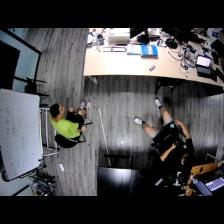normal: (132, 98, 194, 168), (50, 100, 90, 139)
